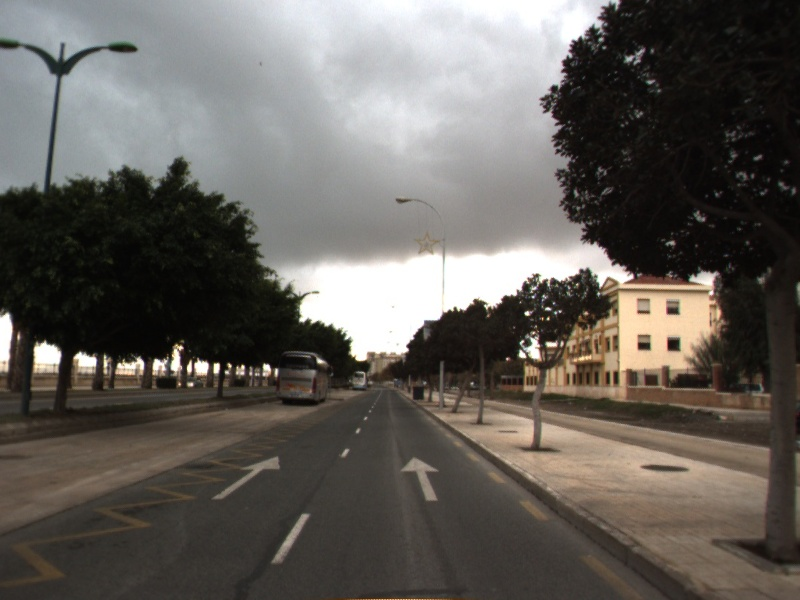STRAIGHT: (210, 453, 282, 502), (398, 454, 442, 503)
